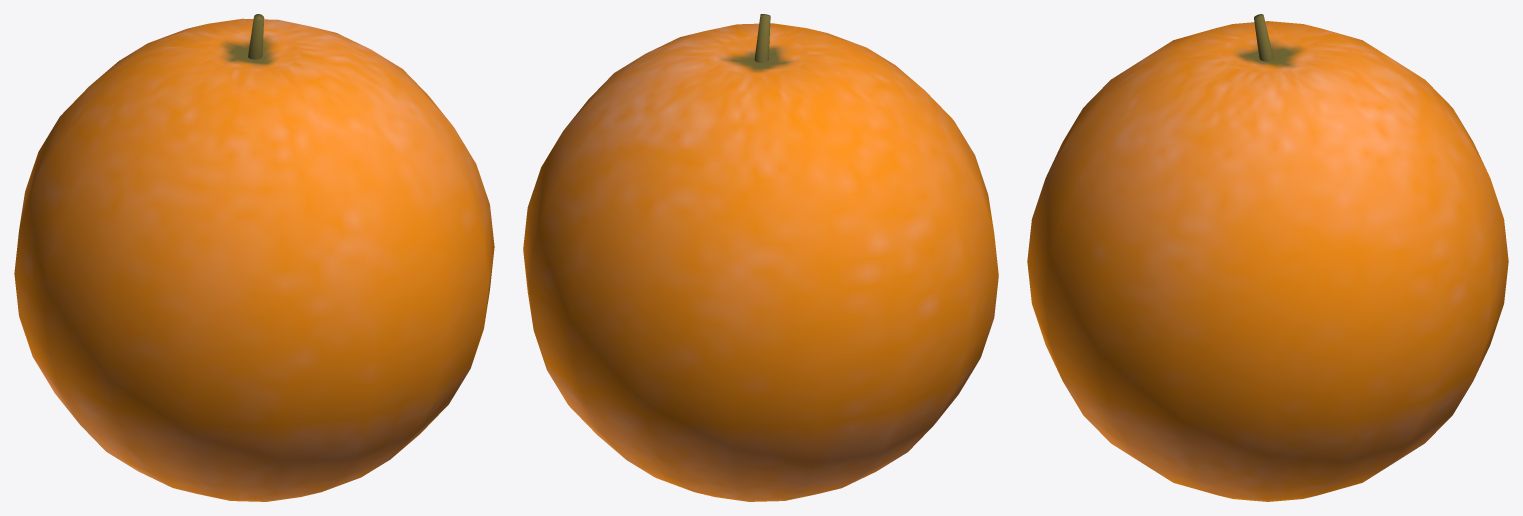
The model's file is SM_Orange_01.fbx.
The picture shows the model from 3 angles, left to right: view 1: azimuth 30°, elevation 25°; view 2: azimuth 150°, elevation 25°; view 3: azimuth 270°, elevation 25°; orthographic projection.
Parts seen in each view (by area): view 1: SM_Orange_01_LOD0; view 2: SM_Orange_01_LOD0; view 3: SM_Orange_01_LOD0.
Boxes of the visible parts, x1,y1,x2,y2 form: SM_Orange_01_LOD0: (14, 14, 494, 501); SM_Orange_01_LOD0: (523, 14, 998, 501); SM_Orange_01_LOD0: (1027, 14, 1508, 501).
Bounding box in the file's own units: 11.74 × 11.74 × 12.5.
